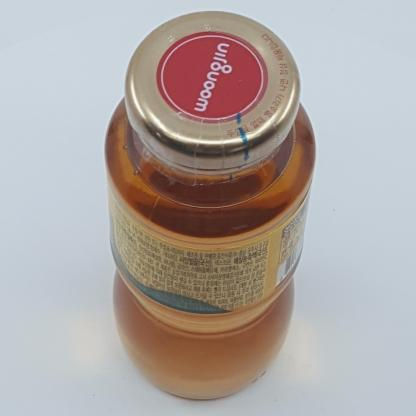-------180ML: (104, 11, 316, 400)
